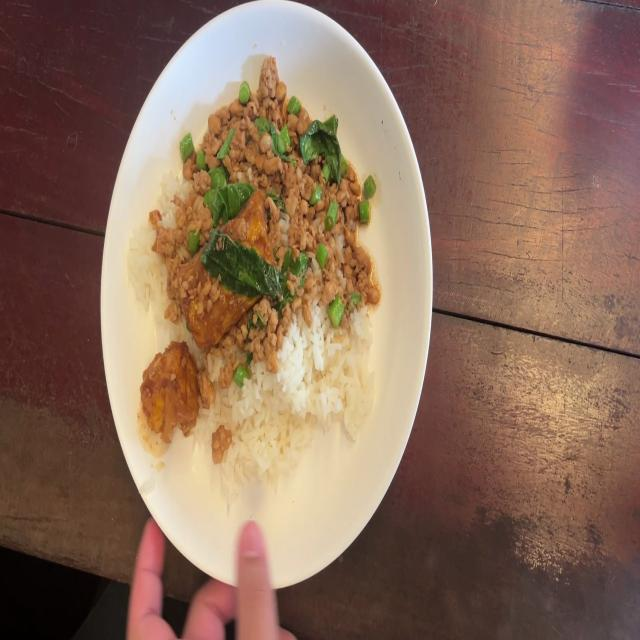01rice: (281, 317, 367, 445), (225, 381, 302, 501), (134, 228, 165, 320)
fried_tofo: (187, 193, 271, 339), (137, 338, 205, 440)
minced_pork: (160, 58, 322, 203), (277, 117, 371, 316), (206, 305, 276, 389), (146, 190, 185, 323)
stir_fried_basil: (129, 57, 380, 511)
